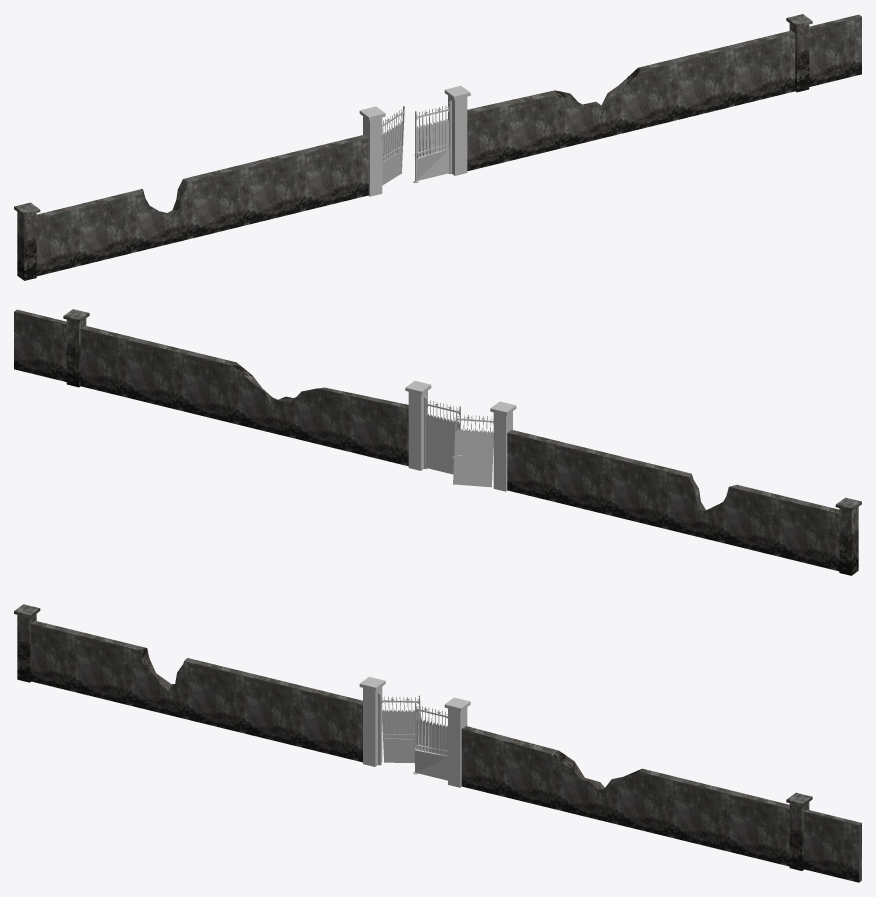
Rendered from Gerbang 1,1.fbx.
3 views of the same model, one above another, from view 1: azimuth 30°, elevation 25°; view 2: azimuth 150°, elevation 25°; view 3: azimuth 330°, elevation 25° (orthographic).
Visible parts, largest first — view 1: Cube.008, Cube.017, Iron_Gate, Cube.018, Iron_Gate.001, Iron_Gate.002; view 2: Cube.008, Cube.017, Iron_Gate, Cube.018, Iron_Gate.001, Iron_Gate.002; view 3: Cube.008, Cube.017, Iron_Gate, Cube.018, Iron_Gate.002, Iron_Gate.001.
Part boxes in pixels (box(x1,y1,x2,y2)): Cube.008: box(36, 135, 368, 276); Cube.017: box(467, 30, 795, 171); Iron_Gate: box(359, 86, 470, 196); Cube.018: box(809, 14, 861, 86); Iron_Gate.001: box(14, 202, 40, 280); Iron_Gate.002: box(786, 14, 812, 92); Cube.008: box(507, 430, 839, 571); Cube.017: box(80, 325, 408, 466); Iron_Gate: box(405, 381, 516, 491); Cube.018: box(14, 309, 66, 381); Iron_Gate.001: box(835, 497, 861, 575); Iron_Gate.002: box(63, 309, 89, 387); Cube.008: box(31, 621, 362, 762); Cube.017: box(461, 726, 789, 866); Iron_Gate: box(359, 677, 470, 787); Cube.018: box(804, 809, 861, 882); Iron_Gate.002: box(786, 792, 812, 870); Iron_Gate.001: box(14, 604, 40, 682).
Size of the model in its own units: 3057 by 280 by 100.
